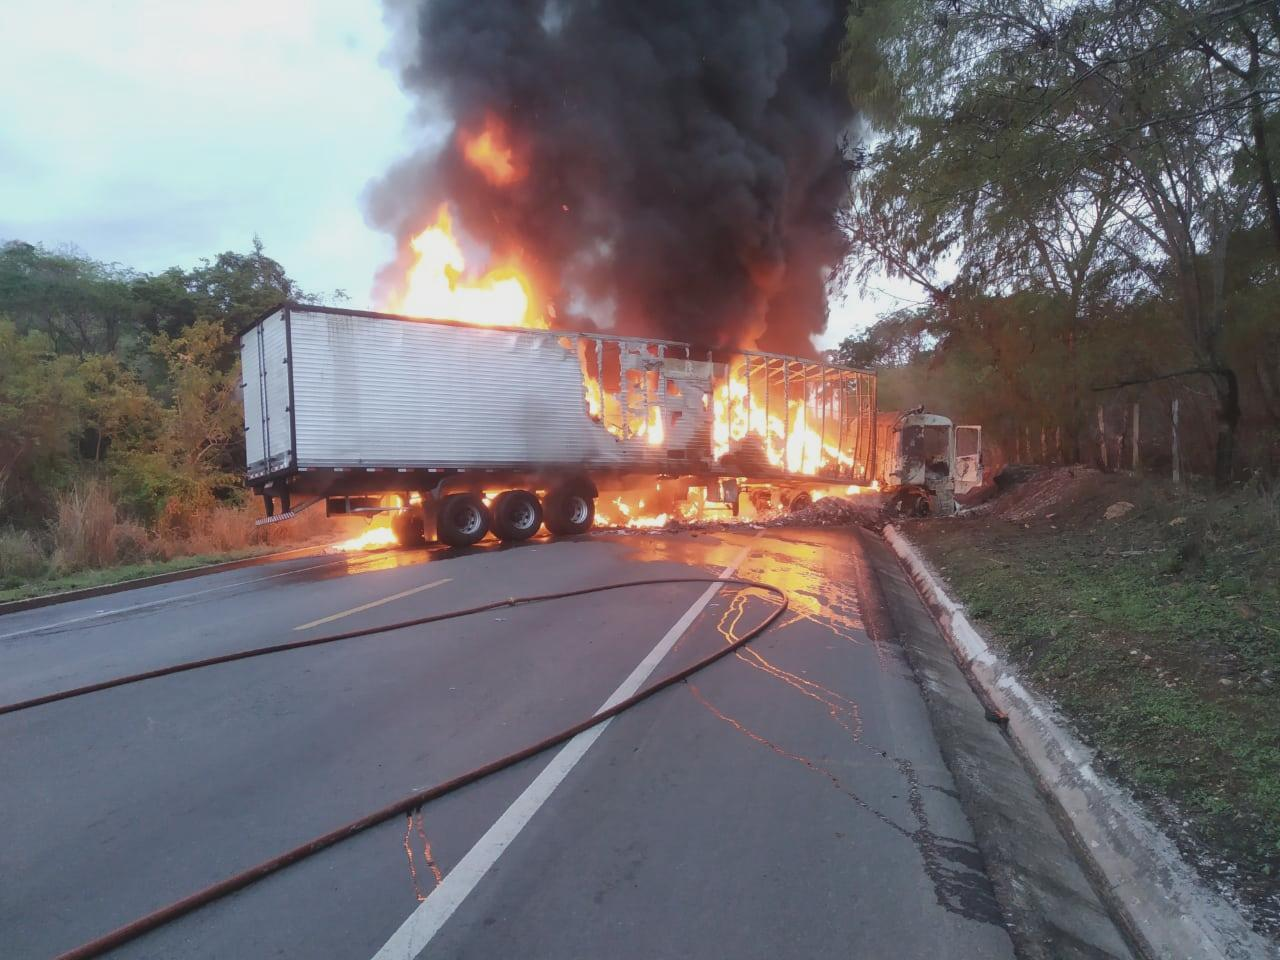Fire: (386, 204, 541, 334), (714, 370, 867, 475), (580, 380, 670, 447), (463, 129, 518, 182), (598, 500, 673, 533), (679, 486, 735, 521), (810, 478, 882, 505), (336, 527, 402, 547)
